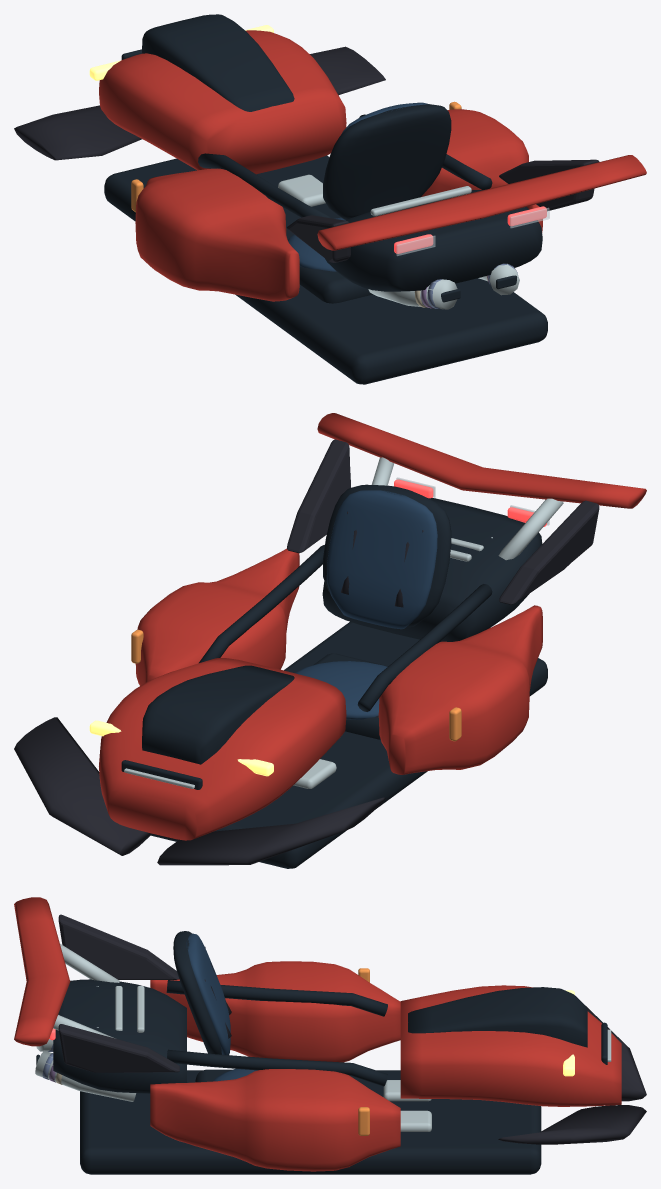
File: glutstrom.glb
3 views of the same model, one above another, from view 1: azimuth 30°, elevation 25°; view 2: azimuth 150°, elevation 25°; view 3: azimuth 270°, elevation 25° (orthographic). The views are drawn at different scales.
Visible parts, largest first — view 1: LOD0, ShowroomDetail; view 2: LOD0; view 3: LOD0.
Part boxes in pixels (x1,y1,x2,y2): LOD0: (14, 14, 646, 384); ShowroomDetail: (396, 207, 549, 308); LOD0: (14, 413, 646, 868); LOD0: (14, 897, 646, 1174).
Size of what is drawn, in the model's own units: 1.52 by 0.868 by 2.61.
